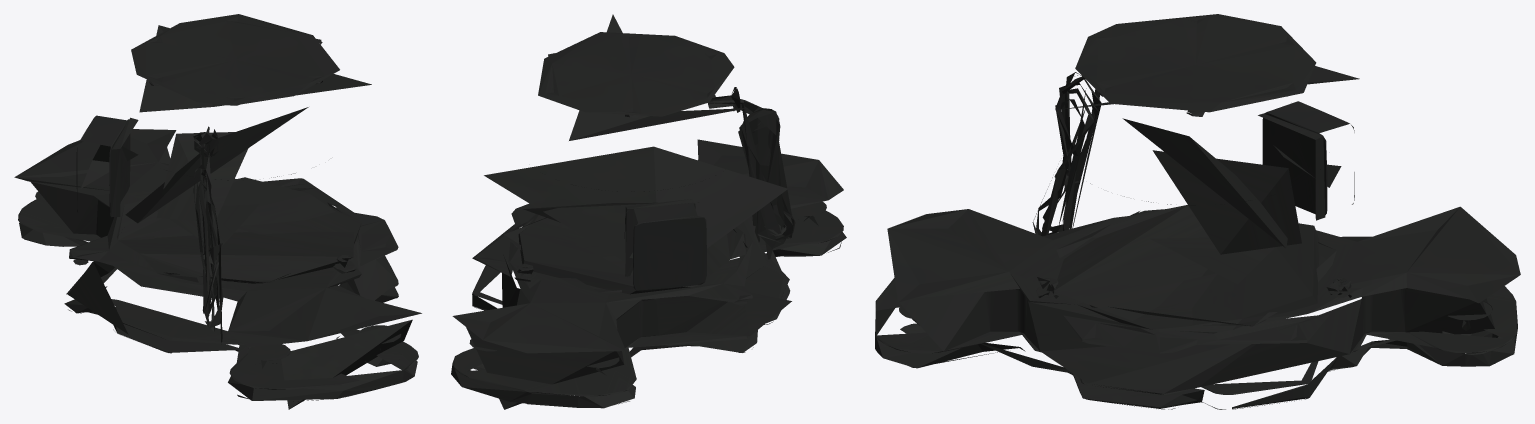
Rendered from engineComponent_water_pump_e01.glb.
3 renders of one model, left to right at view 1: azimuth 30°, elevation 25°; view 2: azimuth 150°, elevation 25°; view 3: azimuth 270°, elevation 25°, orthographic. The views are drawn at different scales.
Visible parts, largest first — view 1: geometry_0; view 2: geometry_0; view 3: geometry_0.
Boxes of the visible parts, <box> form: geometry_0: <box>14,14,421,409</box>; geometry_0: <box>451,14,846,409</box>; geometry_0: <box>875,14,1520,409</box>.
Bounding box in the file's own units: 0.2455 × 0.2072 × 0.42.
1 material, 1 textured.
